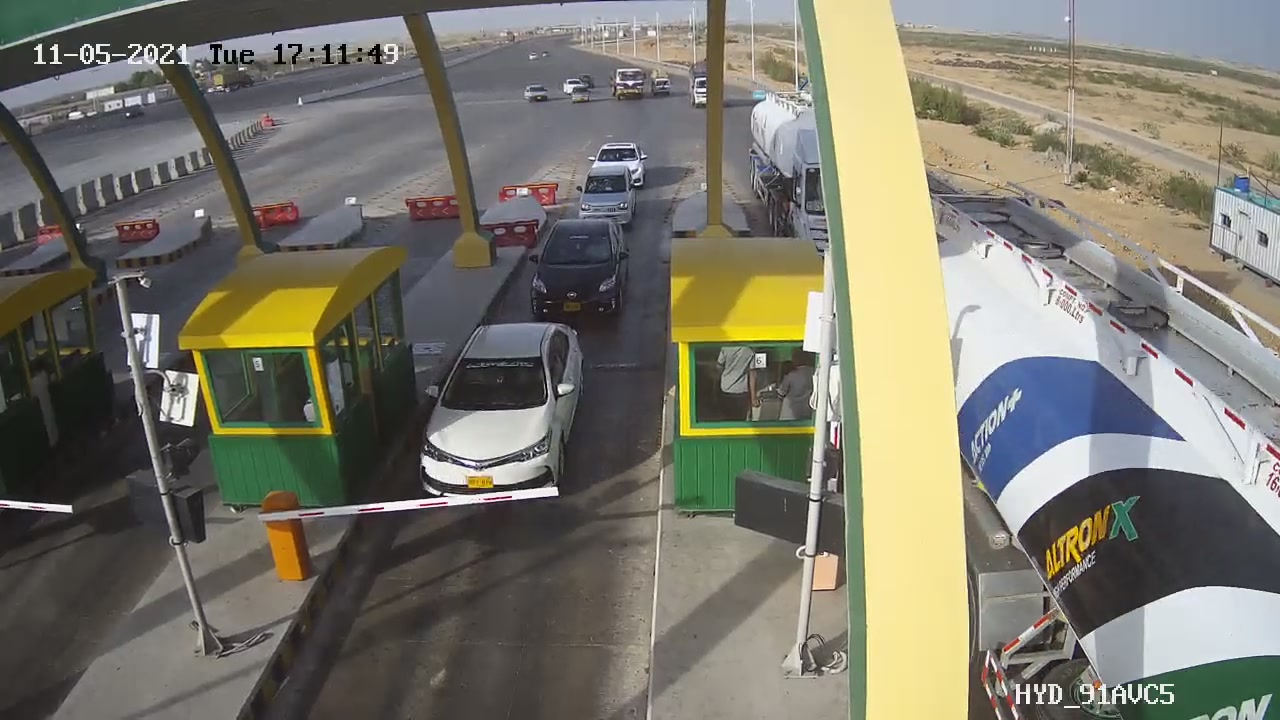F1: (394, 309, 598, 513), (516, 207, 643, 339)
